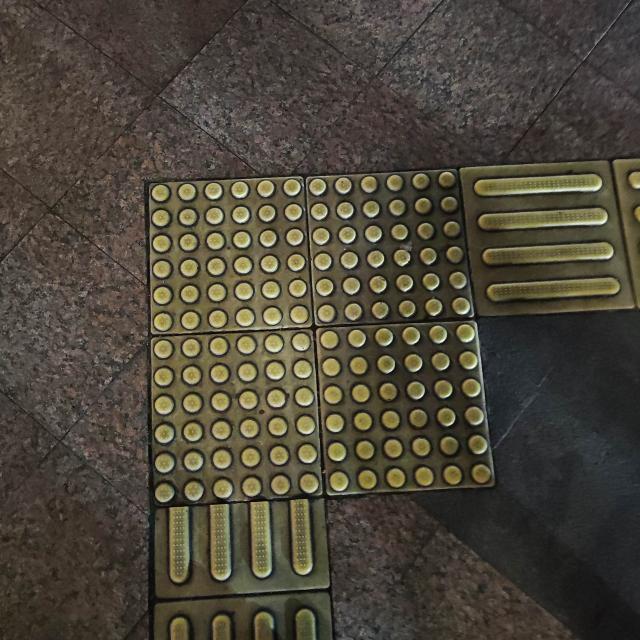kanan: (68, 120, 640, 584)
